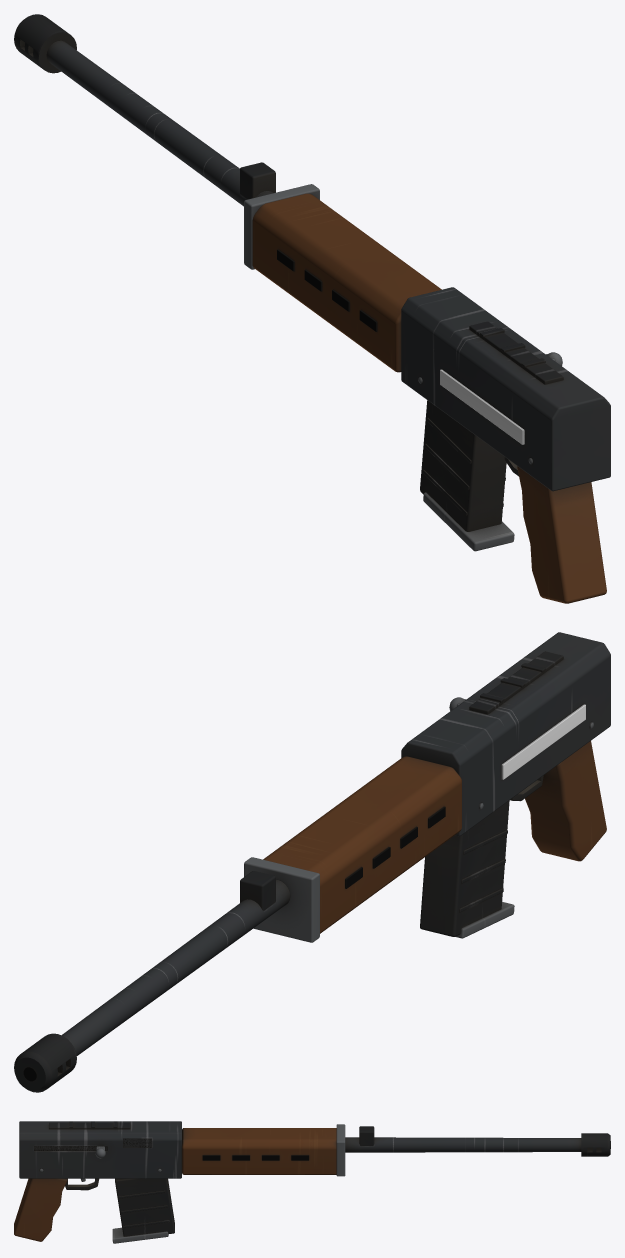
File: weapon_marksman.gltf
3 views of the same model, one above another, from view 1: azimuth 30°, elevation 25°; view 2: azimuth 150°, elevation 25°; view 3: azimuth 270°, elevation 25° (orthographic). The views are drawn at different scales.
Parts seen in each view (by area): view 1: Body, Mag; view 2: Body, Mag; view 3: Body, Mag.
Part boxes in pixels (x1,y1,x2,y2): Body: (14,14,610,603); Mag: (420,400,514,551); Body: (14,632,610,1092); Mag: (420,800,514,938); Body: (14,1121,610,1241); Mag: (112,1178,174,1243).
Bounding box in the file's own units: 0.0756 × 0.1715 × 0.8076.
Materials: 6 (6 with a texture image).
